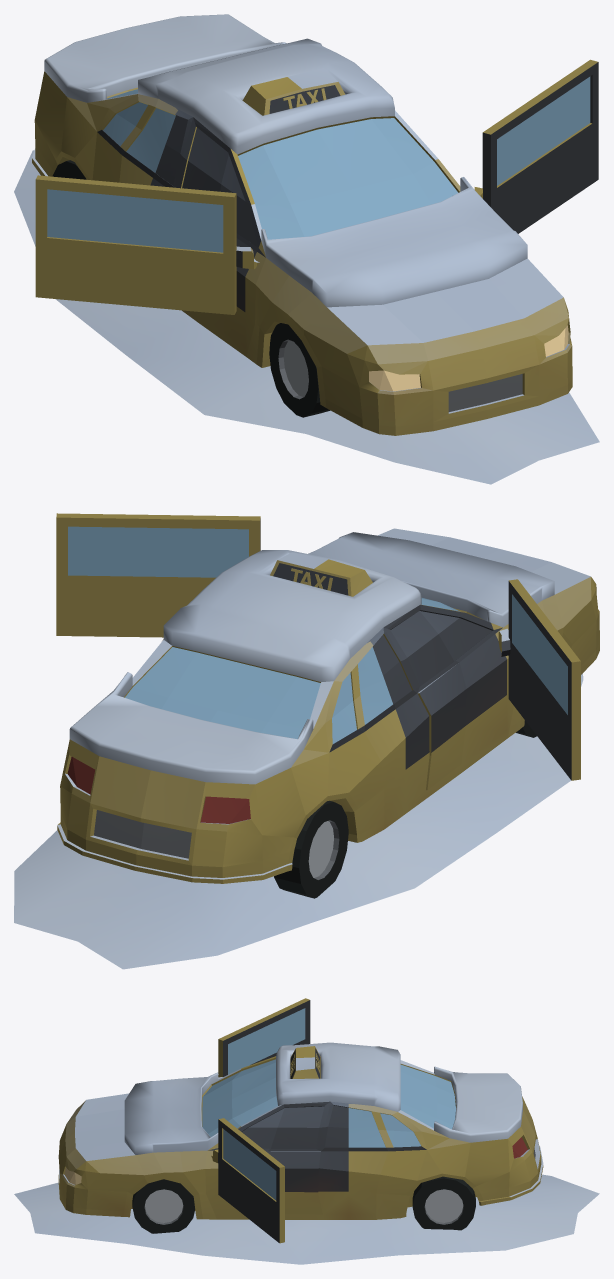
Rendered from taxi_doors.glb.
3 views of the same model, one above another, from view 1: azimuth 30°, elevation 25°; view 2: azimuth 150°, elevation 25°; view 3: azimuth 270°, elevation 25° (orthographic). The views are drawn at different scales.
Visible parts, largest first — view 1: Body, Glass; view 2: Body, Glass; view 3: Body, Glass.
Part boxes in pixels (x1=…): Body: x1=14, y1=14, x2=599, y2=484; Glass: x1=47, y1=76, x2=590, y2=252; Body: x1=14, y1=513, x2=599, y2=969; Glass: x1=68, y1=526, x2=567, y2=743; Body: x1=14, y1=998, x2=599, y2=1264; Glass: x1=202, y1=1008, x2=455, y2=1200.
Size of the model in its own units: 3.85 by 1.55 by 5.62.
